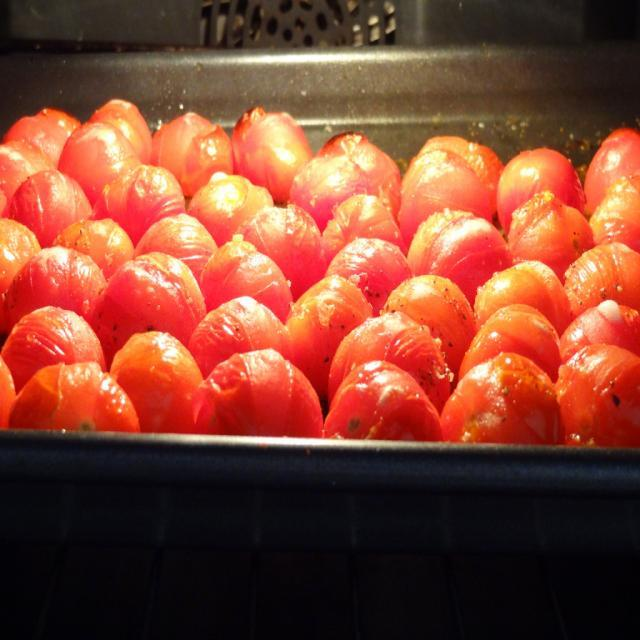Tomato: (0, 99, 639, 451), (102, 330, 199, 434)
